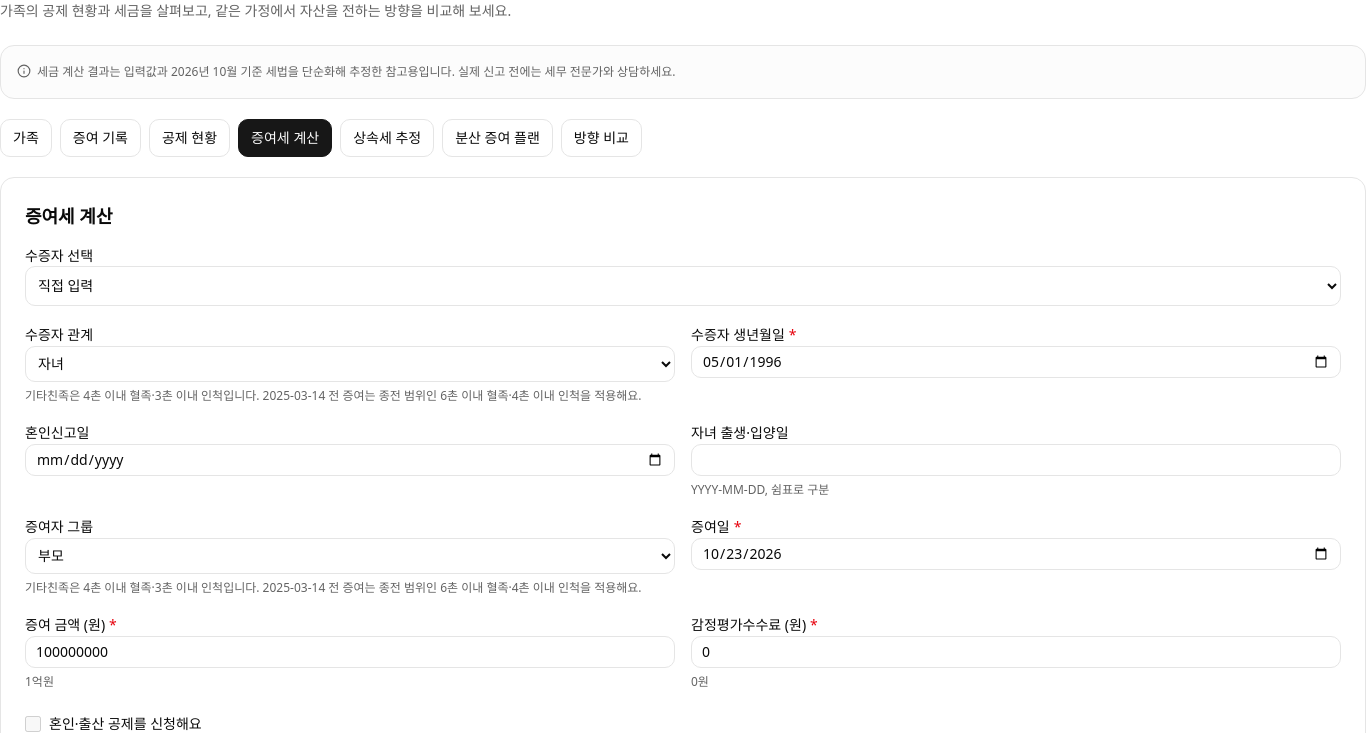
Test case: 증여세 계산 단계표와 계산 가정
Expected: the text "기타친족은 4촌 이내 혈족·3촌 이내 인척입니다. 2025-03-14 전 증여는 종전 범위인 6촌 이내 혈족·4촌 이내 인척을 적용해요." below "수증자 관계" is shown, 25,386 -> 642,404
Replace the text in the number field labelled "증여 금액 (원)*" with "120000000" at (350, 652), box 25,636 -> 675,668
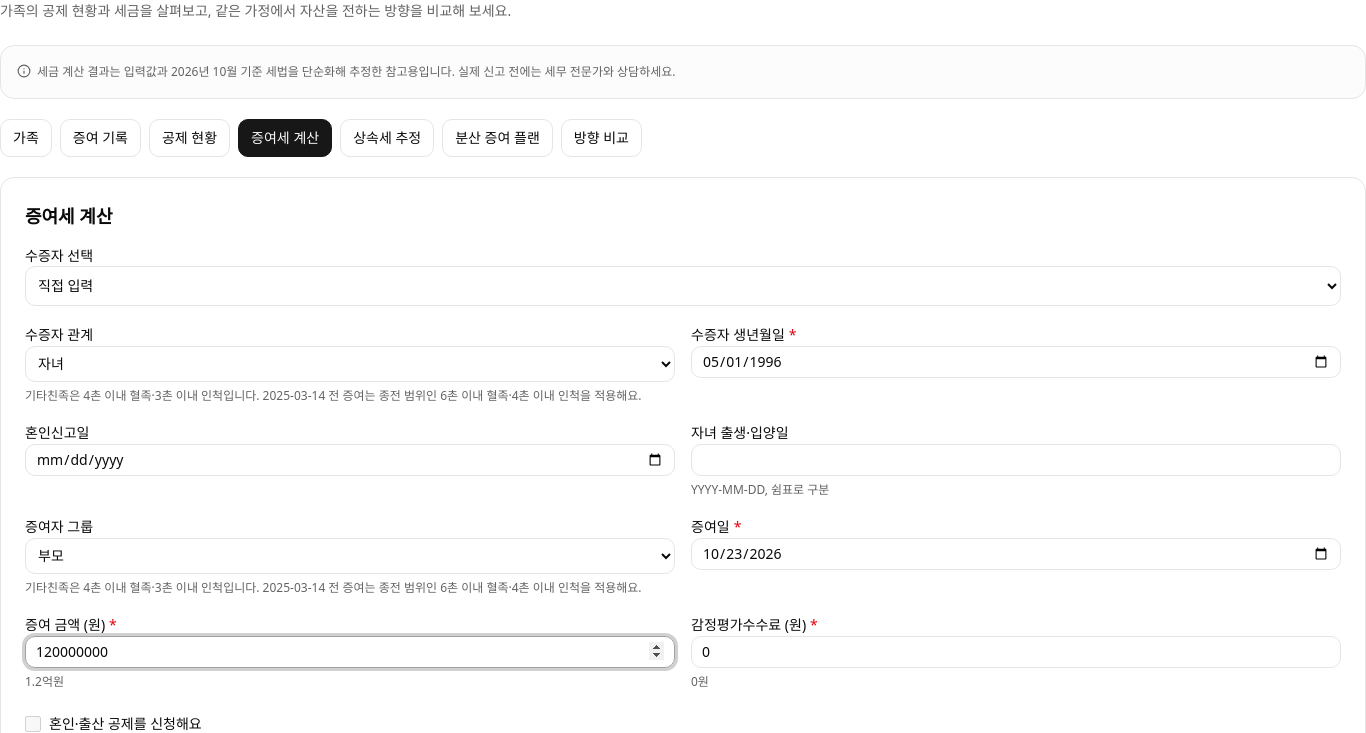
Expected: the text "1.2억원" is shown, 25,672 -> 64,690
Replace the text in the number field labelled "증여 금액 (원)*" with "2500000" at (350, 652), box 25,636 -> 675,668
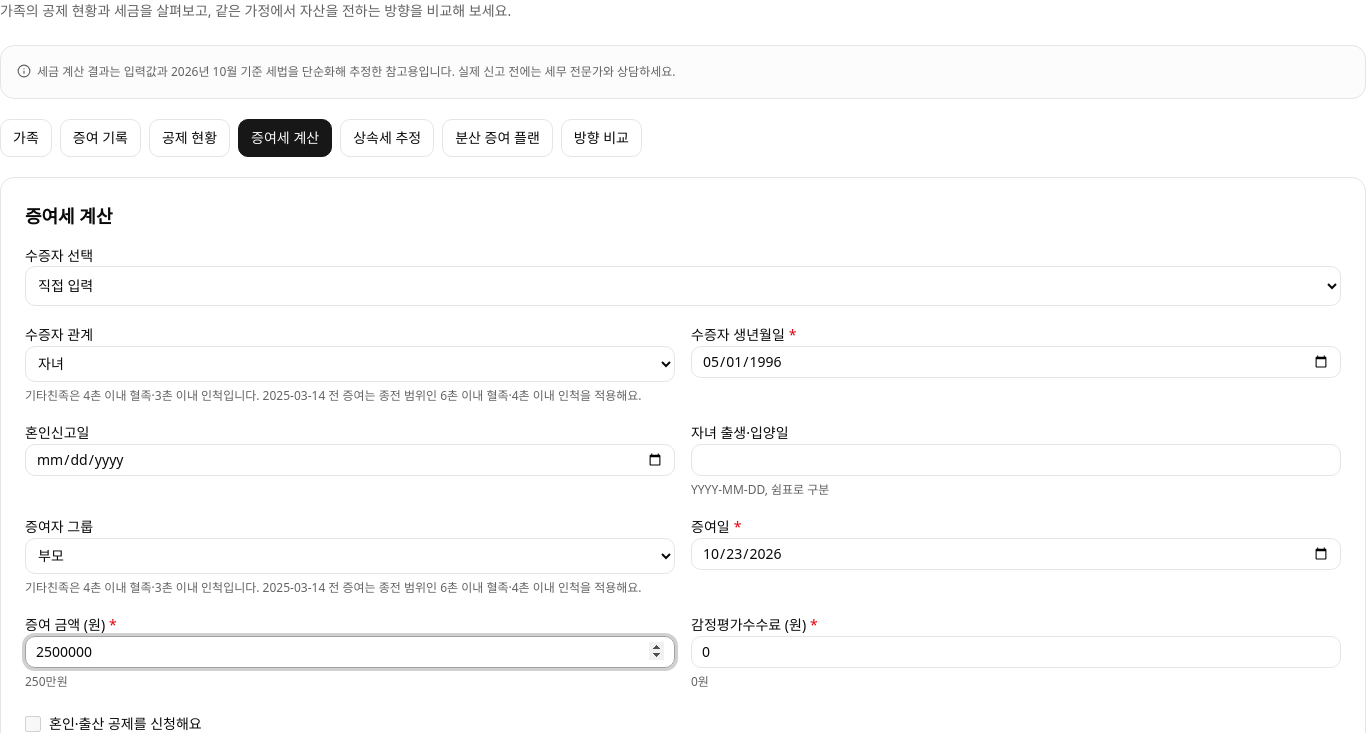
Expected: the text "250만원" is shown, 25,672 -> 68,690
Replace the text in the number field labelled "증여 금액 (원)*" with "100000000" at (350, 652), box 25,636 -> 675,668
(page scrolled)
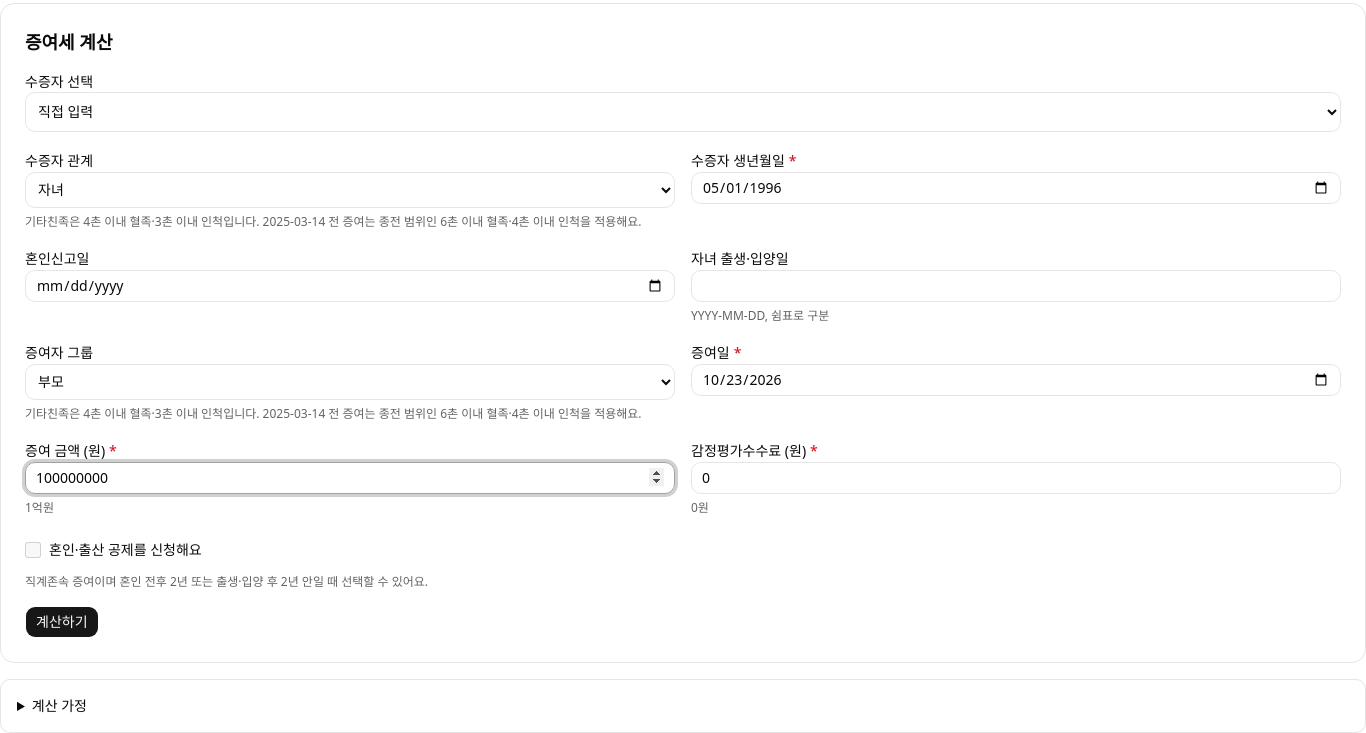
Click the button "계산하기" at (62, 622), box 25,606 -> 98,638
(page scrolled)
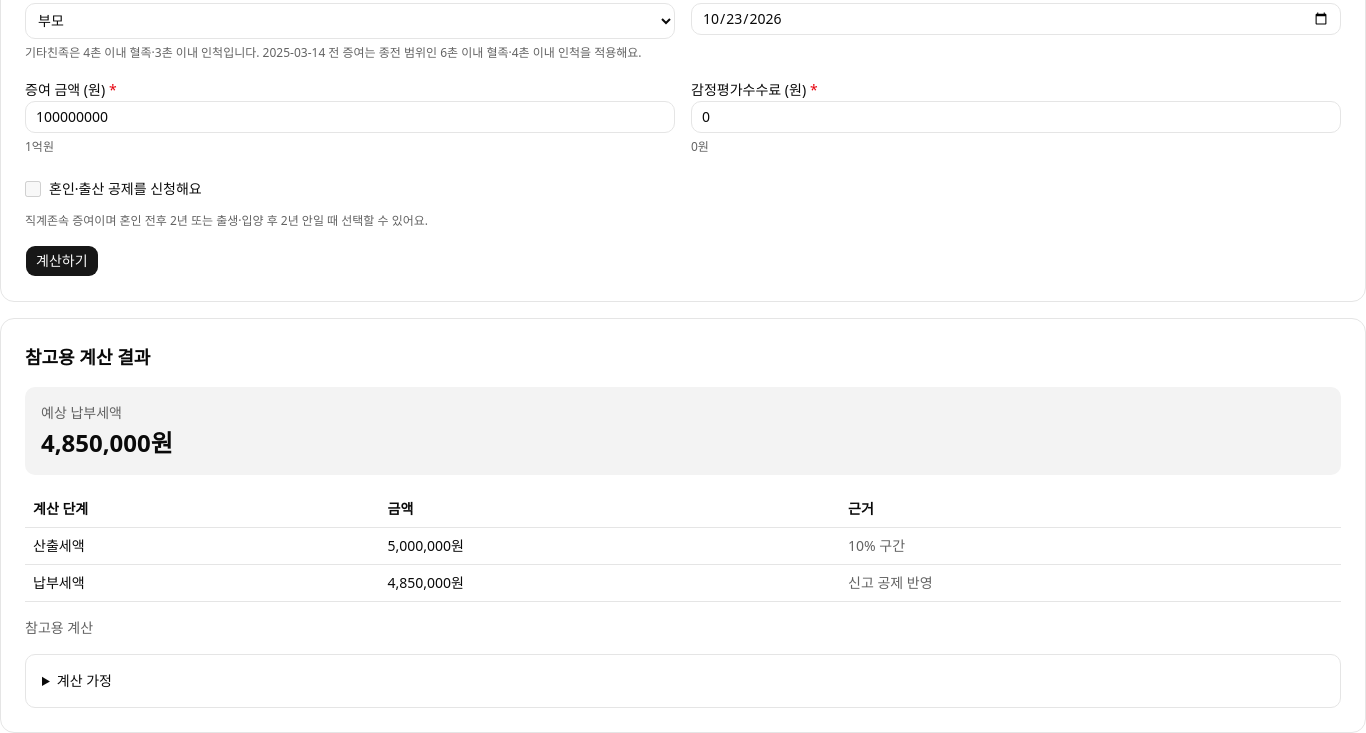
Expected: the table named "세금 계산 단계" is shown, 25,490 -> 1341,602
Expected: the text "10% 구간" is shown, 840,528 -> 1341,564
Click the heading "계산 가정" at (84, 680), box 57,670 -> 112,690
(page scrolled)
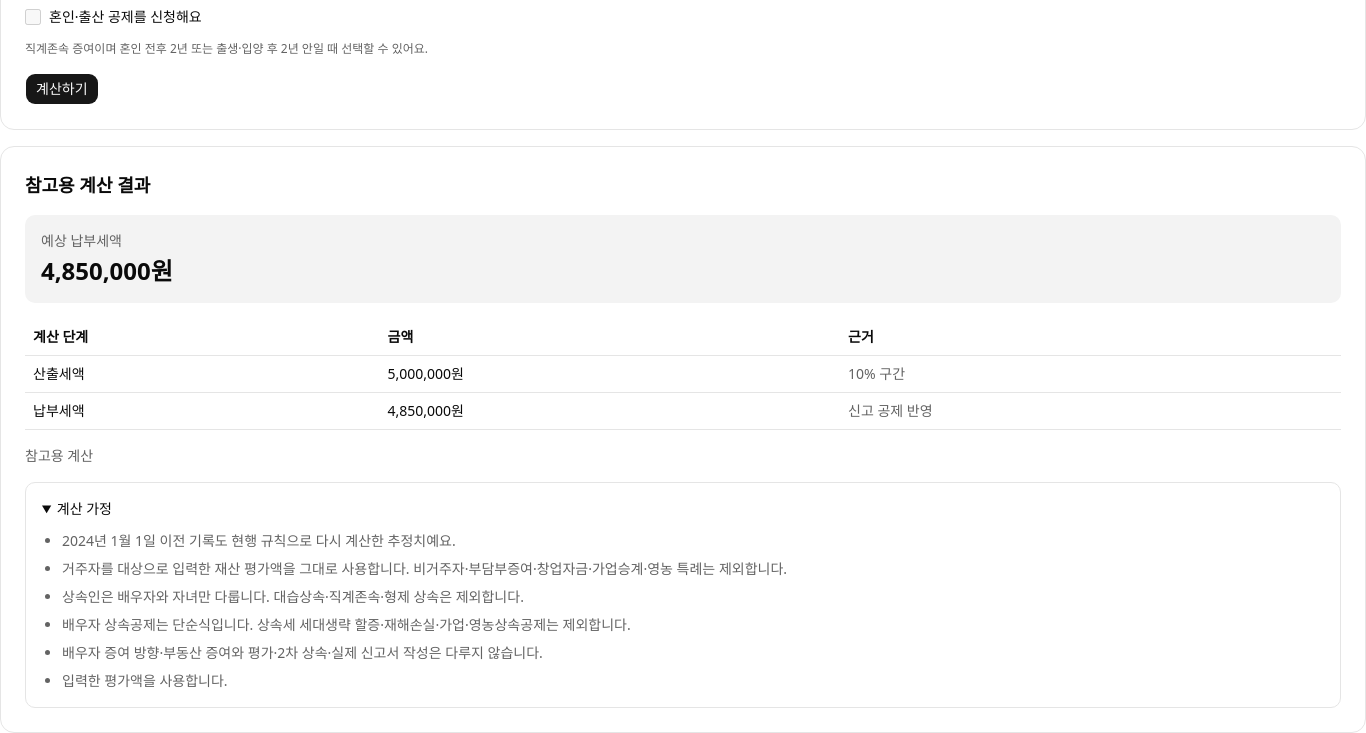
Expected: the list item "입력한 평가액을 사용합니다." is shown, 62,670 -> 228,690
